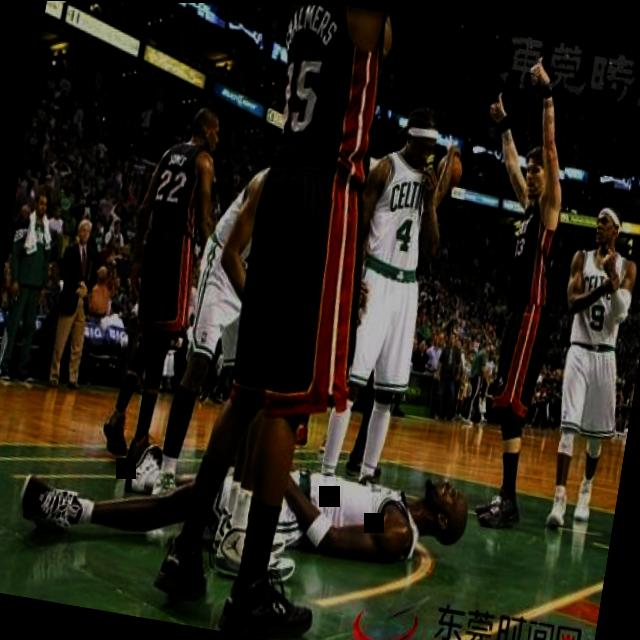Fall-Detected: (0, 379, 495, 619)
